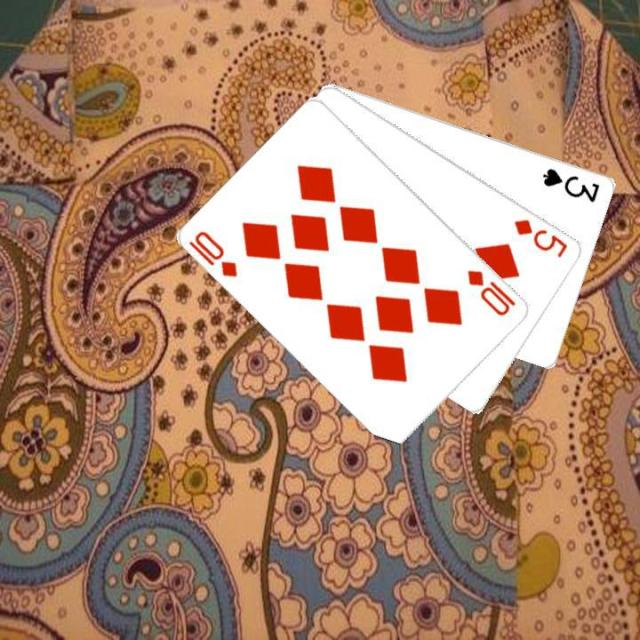10D: (185, 227, 240, 279), (464, 266, 518, 318)
3S: (538, 164, 602, 204)
5D: (510, 215, 570, 260)
